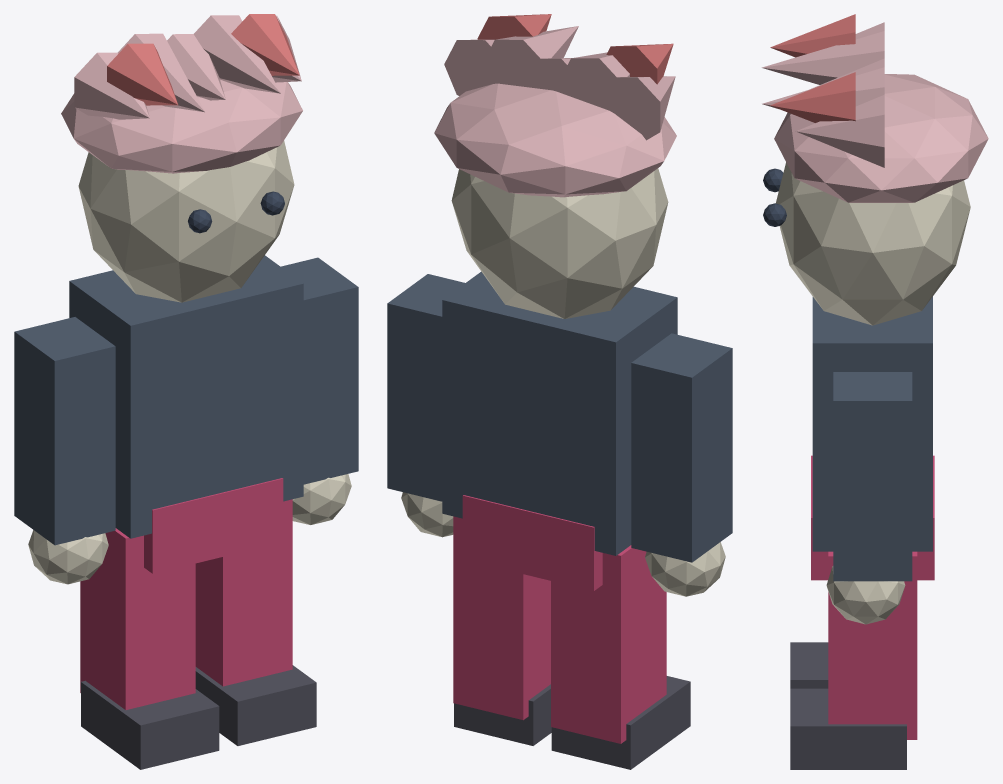
The model's file is power.glb.
3 renders of one model, left to right at view 1: azimuth 30°, elevation 25°; view 2: azimuth 150°, elevation 25°; view 3: azimuth 270°, elevation 25°, orthographic. The views are drawn at different scales.
Parts seen in each view (by area): view 1: part_000, part_010, part_002, part_004, part_013, part_008, part_006, part_001, part_005, part_009, part_017, part_019 (+6 smaller); view 2: part_000, part_010, part_002, part_013, part_004, part_008, part_006, part_001, part_005, part_017, part_014, part_009 (+7 smaller); view 3: part_010, part_006, part_013, part_000, part_008, part_009, part_018, part_015, part_007, part_020, part_005, part_019 (+3 smaller).
Boxes of the visible parts, x1,y1,x2,y2 form: part_000: [69, 255, 303, 538]; part_010: [78, 140, 294, 302]; part_002: [14, 317, 115, 545]; part_004: [80, 528, 195, 709]; part_013: [61, 79, 302, 173]; part_008: [195, 499, 292, 686]; part_006: [281, 257, 358, 484]; part_001: [144, 478, 283, 573]; part_005: [81, 680, 219, 769]; part_009: [195, 665, 316, 745]; part_017: [194, 15, 280, 93]; part_019: [107, 43, 177, 105]; part_000: [442, 271, 677, 555]; part_010: [451, 168, 668, 318]; part_002: [631, 333, 732, 562]; part_013: [434, 83, 676, 197]; part_004: [551, 545, 666, 743]; part_008: [453, 516, 550, 720]; part_006: [387, 274, 464, 501]; part_001: [462, 495, 602, 591]; part_005: [551, 676, 690, 769]; part_017: [482, 26, 578, 89]; part_014: [596, 76, 675, 140]; part_009: [454, 684, 551, 745]; part_010: [776, 162, 970, 325]; part_006: [833, 372, 912, 581]; part_013: [774, 74, 988, 202]; part_000: [812, 296, 932, 551]; part_008: [828, 551, 917, 739]; part_009: [790, 688, 906, 769]; part_018: [796, 94, 884, 167]; part_015: [762, 31, 884, 84]; part_007: [826, 566, 905, 624]; part_020: [770, 72, 855, 122]; part_005: [790, 642, 828, 688]; part_019: [770, 14, 855, 57].
Bounding box in the file's own units: 1.03 × 2.19 × 0.6628.
